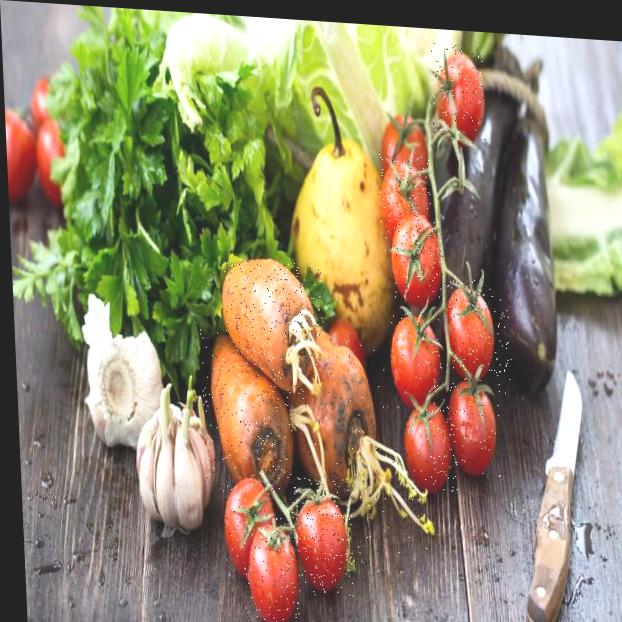carrots: (289, 334, 433, 559), (200, 328, 295, 493), (224, 258, 327, 402)
tomatoes: (290, 476, 356, 598), (447, 277, 514, 394), (241, 514, 306, 622), (222, 472, 280, 585), (386, 311, 446, 415), (448, 369, 502, 478), (430, 42, 486, 141), (387, 212, 446, 303), (377, 153, 433, 242), (402, 403, 458, 492), (380, 104, 429, 175)
